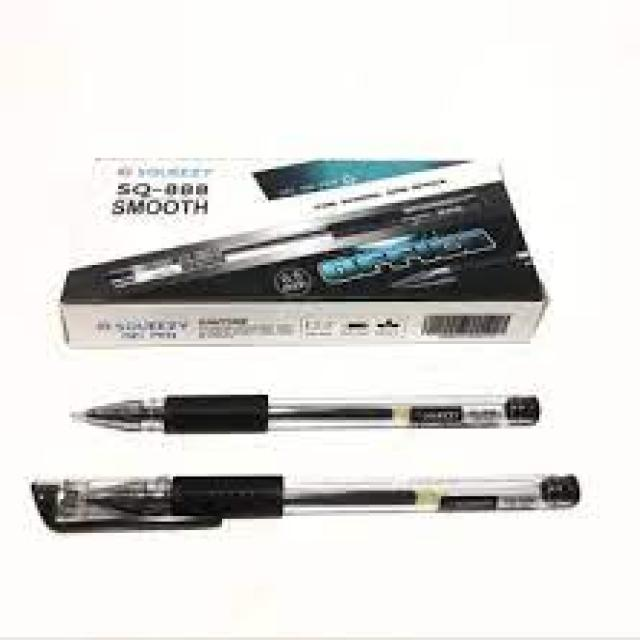pen: (31, 476, 585, 536), (65, 393, 543, 430)
